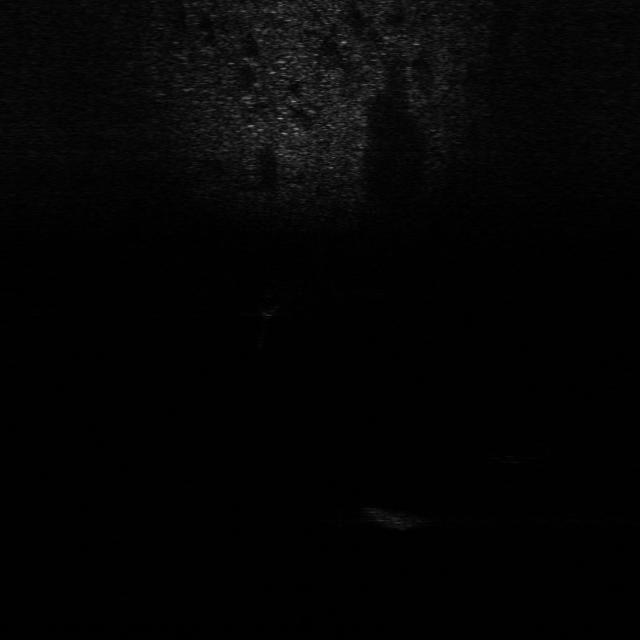ball: (246, 290, 288, 318)
metal bucket: (366, 497, 440, 532)
